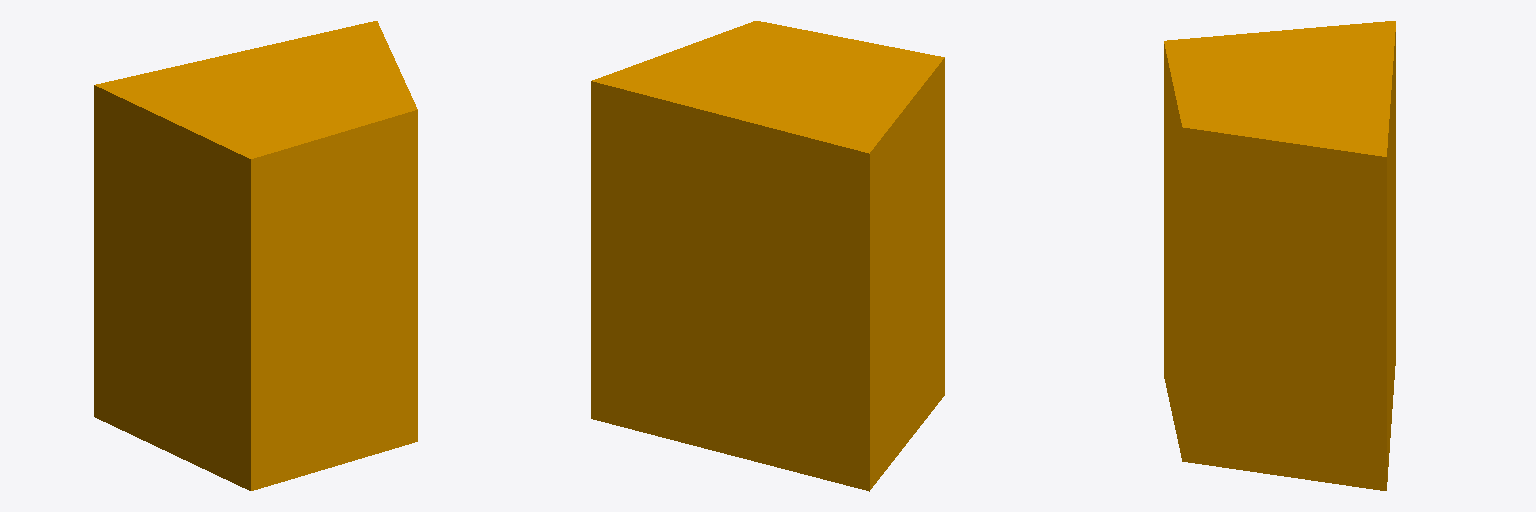
robot.urdf — object:
<?xml version="1.0"?>
<robot name="object">
  <link name="object">
    <visual>
      <origin xyz="0 0 0"/>
      <geometry>
        <mesh filename="meshes/generated/col_108.obj" scale="0.03 0.03 0.03"/>
      </geometry>
    </visual>
    <collision>
      <origin xyz="0 0 0"/>
      <geometry>
        <mesh filename="meshes/generated/col_108.obj" scale="0.03 0.03 0.03"/>
      </geometry>
    </collision>
    <inertial>
      <density value="1000.0"/>
    </inertial>
  </link>
</robot>

--- Facts derived from the render (not from the file) ---
Views: 3 orthographic renders of the robot side by side, from view 1: azimuth 30°, elevation 25°; view 2: azimuth 150°, elevation 25°; view 3: azimuth 270°, elevation 25°.
Robot: object — 1 links, 0 joints (none); root link object; default pose: every joint at zero.
Visible links, largest first — view 1: object; view 2: object; view 3: object.
Link boxes in pixels (x1,y1,x2,y2): object: [94, 21, 417, 490]; object: [591, 21, 944, 491]; object: [1164, 21, 1395, 490].
Size in the robot's own frame: 0.0526 by 0.0378 by 0.06 metres.
Meshes: 1 distinct files referenced, 1 mesh visuals loaded (1 OBJ).
